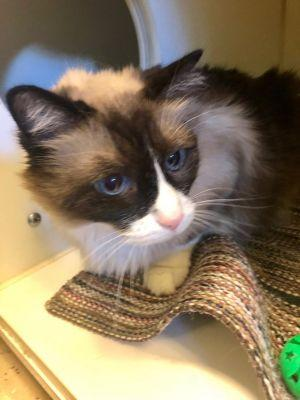ragdoll: (4, 46, 226, 268)
